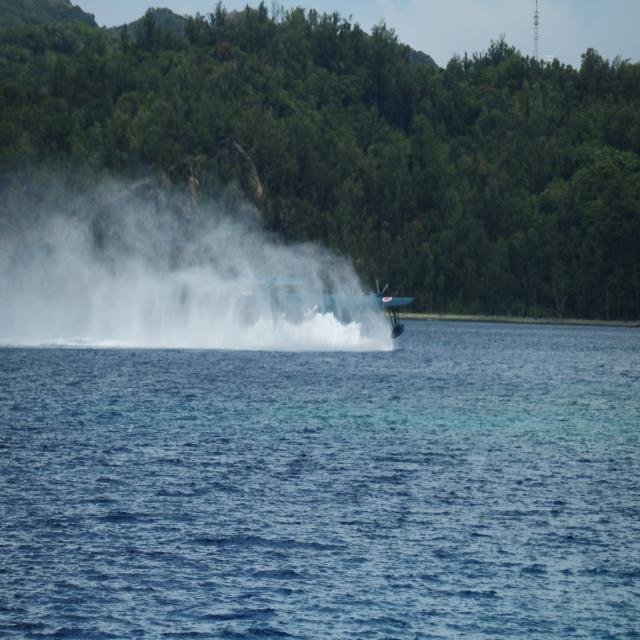MIL_Plane: (198, 273, 416, 339)
